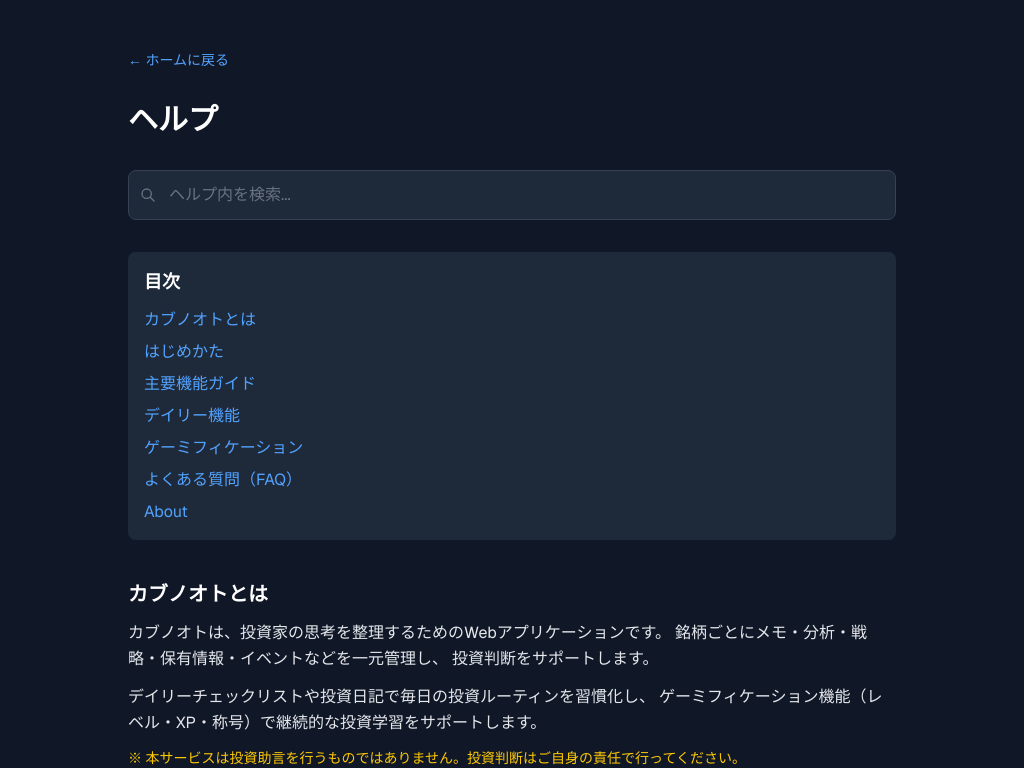
Test: HelpPage › 検索するとマッチする項目のみ表示される
This screenshot has width=1024, height=768.
Type "チェックリスト" into the field with placeholder "ヘルプ内を検索...".
click(512, 195); type("チェックリスト")  # box top-left (128, 170), bottom-right (896, 220)
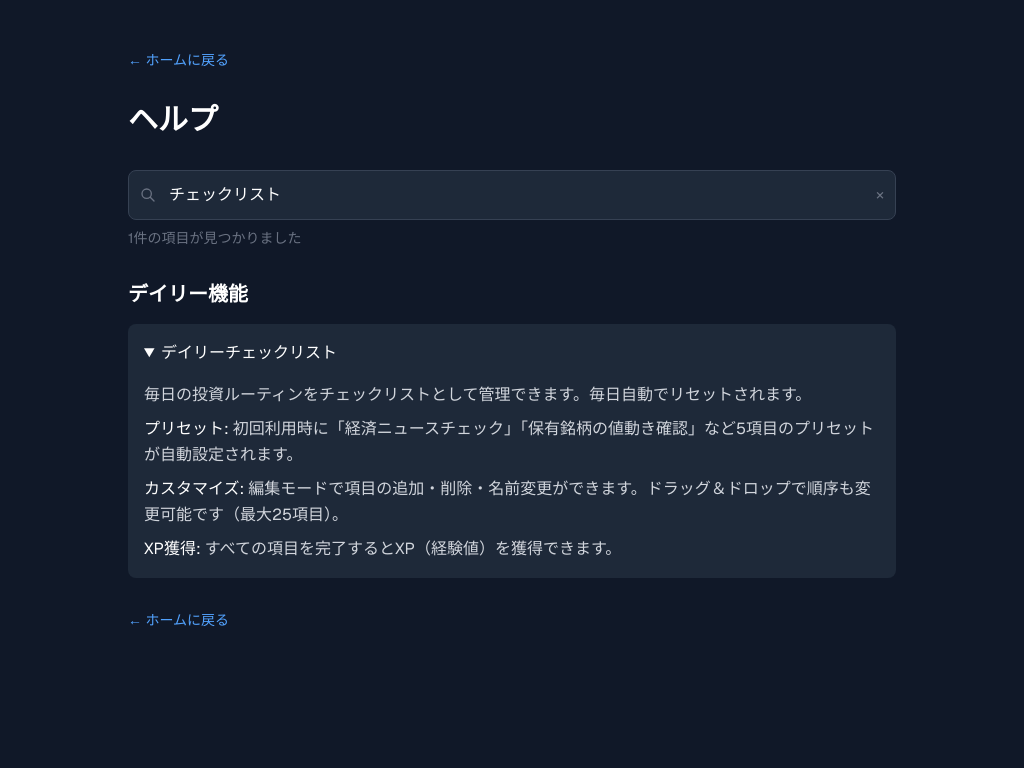
Expected: the heading "デイリーチェックリスト" is shown, top-left (161, 342), bottom-right (337, 363)
Result: the text "1件の項目が見つかりました" is shown at top-left (128, 229), bottom-right (301, 247)
